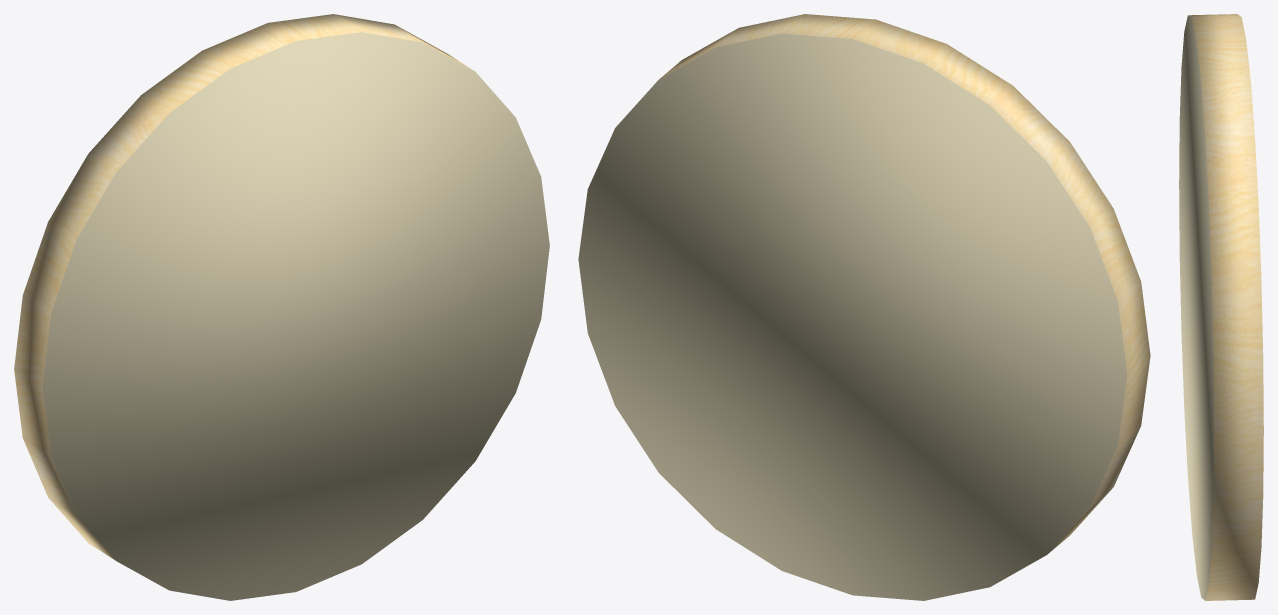
The model's file is lemon_slice.fbx.
3 renders of one model, left to right at view 1: azimuth 30°, elevation 25°; view 2: azimuth 150°, elevation 25°; view 3: azimuth 270°, elevation 25°, orthographic. The views are drawn at different scales.
Parts seen in each view (by area): view 1: lemonslice; view 2: lemonslice; view 3: lemonslice.
Boxes of the visible parts, x1,y1,x2,y2 form: lemonslice: [14, 14, 549, 600]; lemonslice: [578, 14, 1150, 600]; lemonslice: [1179, 14, 1263, 600].
Size of the model in its own units: 0.1917 by 0.191 by 0.0275.
